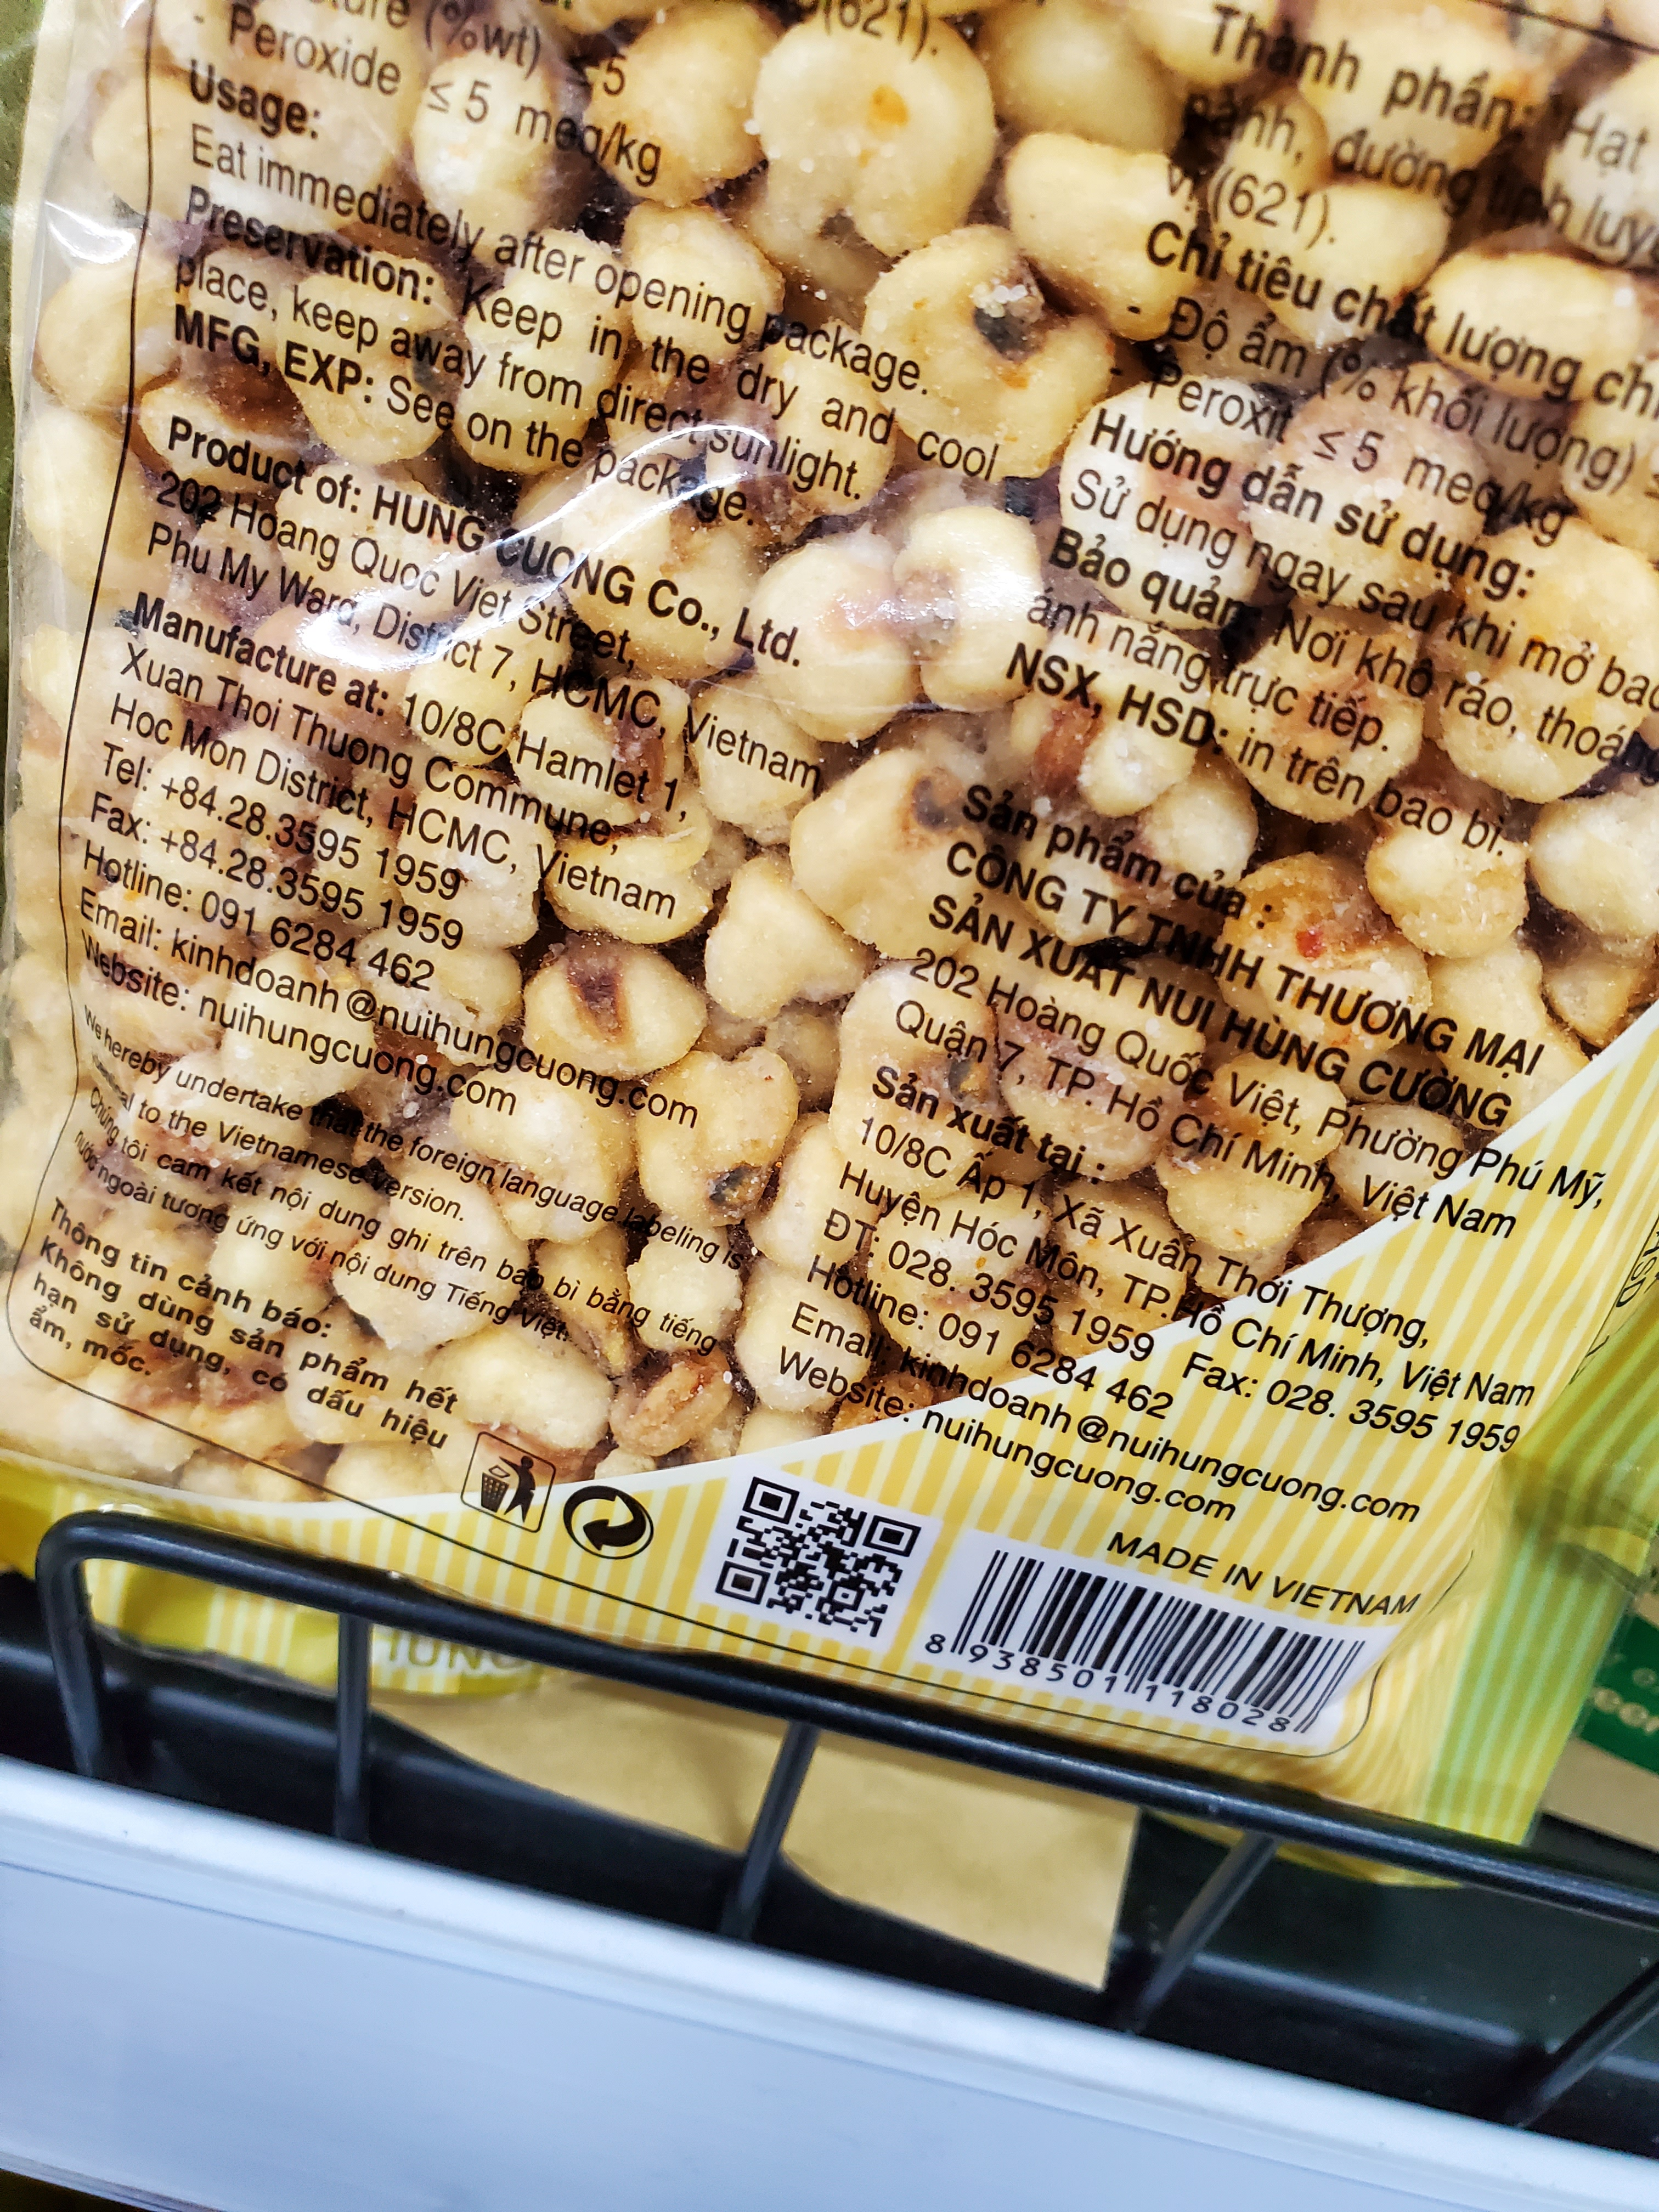barcode: (915, 1526, 1370, 1768)
qr code: (695, 1460, 927, 1672)
